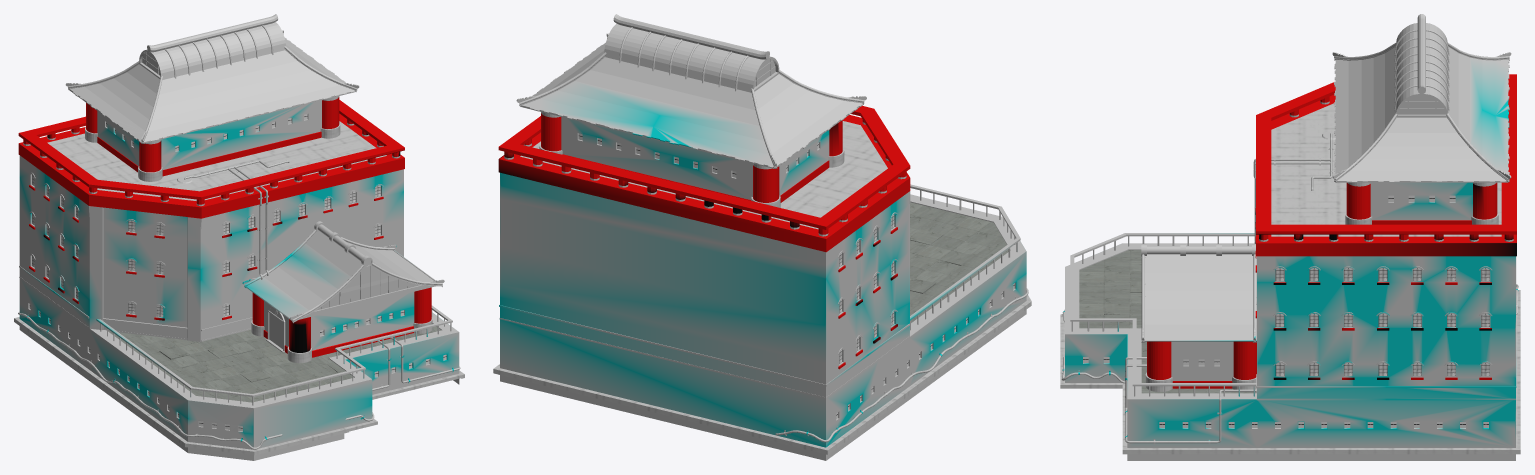
The model's file is SM_ENV_KNVLLG_AreaC_Building_A.mo.fbx.
The picture shows the model from 3 angles, left to right: view 1: azimuth 30°, elevation 25°; view 2: azimuth 150°, elevation 25°; view 3: azimuth 270°, elevation 25°; orthographic projection. The views are drawn at different scales.
Visible parts, largest first — view 1: SM_ENV_KNVLLG_AreaC_Building_A.mo; view 2: SM_ENV_KNVLLG_AreaC_Building_A.mo; view 3: SM_ENV_KNVLLG_AreaC_Building_A.mo.
Boxes of the visible parts, left/top/right/bottom form: SM_ENV_KNVLLG_AreaC_Building_A.mo: left=14, top=14, right=464, bottom=460; SM_ENV_KNVLLG_AreaC_Building_A.mo: left=493, top=14, right=1031, bottom=460; SM_ENV_KNVLLG_AreaC_Building_A.mo: left=1060, top=14, right=1520, bottom=460.
Bounding box in the file's own units: 39.5 × 39.3 × 48.
